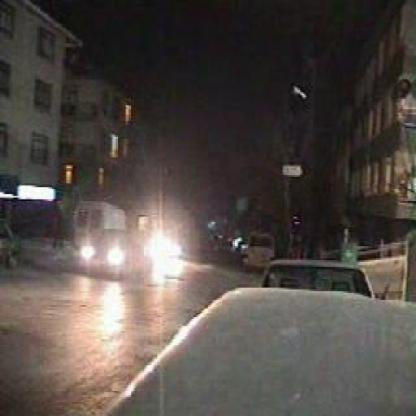other: (70, 224, 193, 286)
